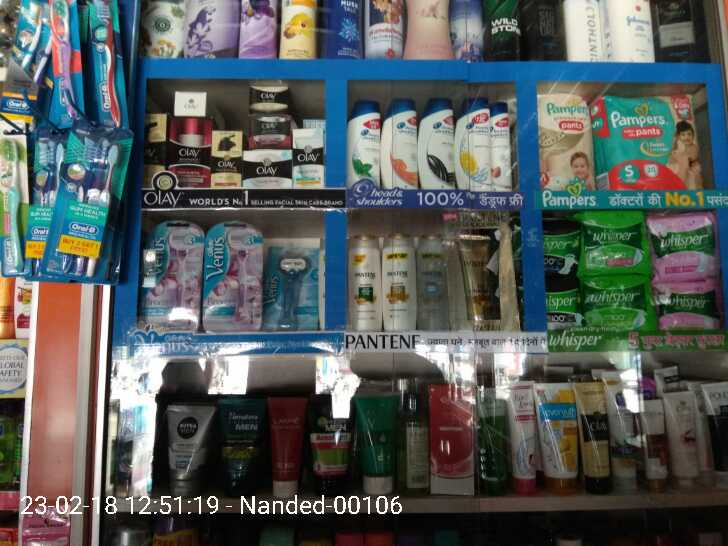venus: (201, 217, 265, 325), (143, 217, 201, 326), (268, 245, 314, 330)
